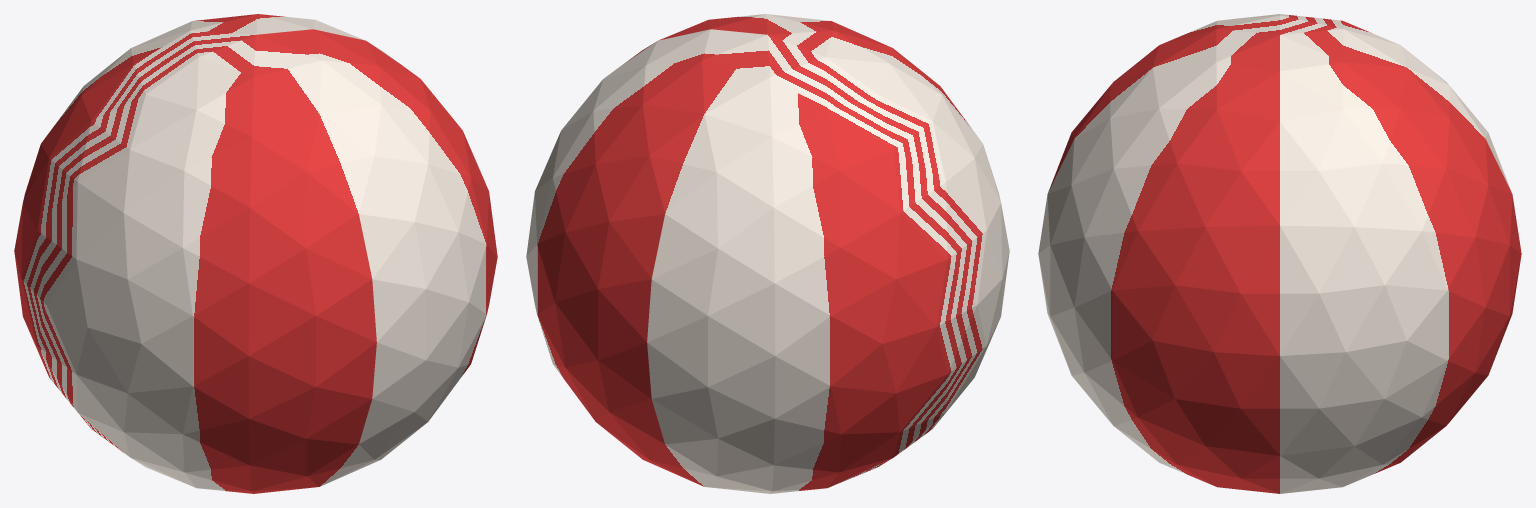
File: esfera.obj
3 views of the same model, side by side, from view 1: azimuth 30°, elevation 25°; view 2: azimuth 150°, elevation 25°; view 3: azimuth 270°, elevation 25° (orthographic).
Visible parts, largest first — view 1: esfera; view 2: esfera; view 3: esfera.
Boxes of the visible parts, x1=… form: esfera: x1=14, y1=14, x2=497, y2=493; esfera: x1=526, y1=14, x2=1009, y2=493; esfera: x1=1038, y1=14, x2=1521, y2=493.
Size of the model in its own units: 1 by 1 by 1.
Materials: 1 (1 with a texture image).
